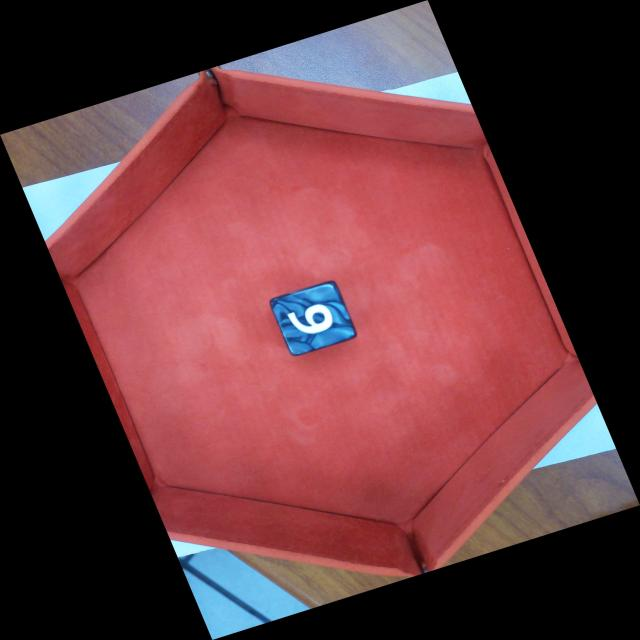dice: (268, 279, 359, 358)
